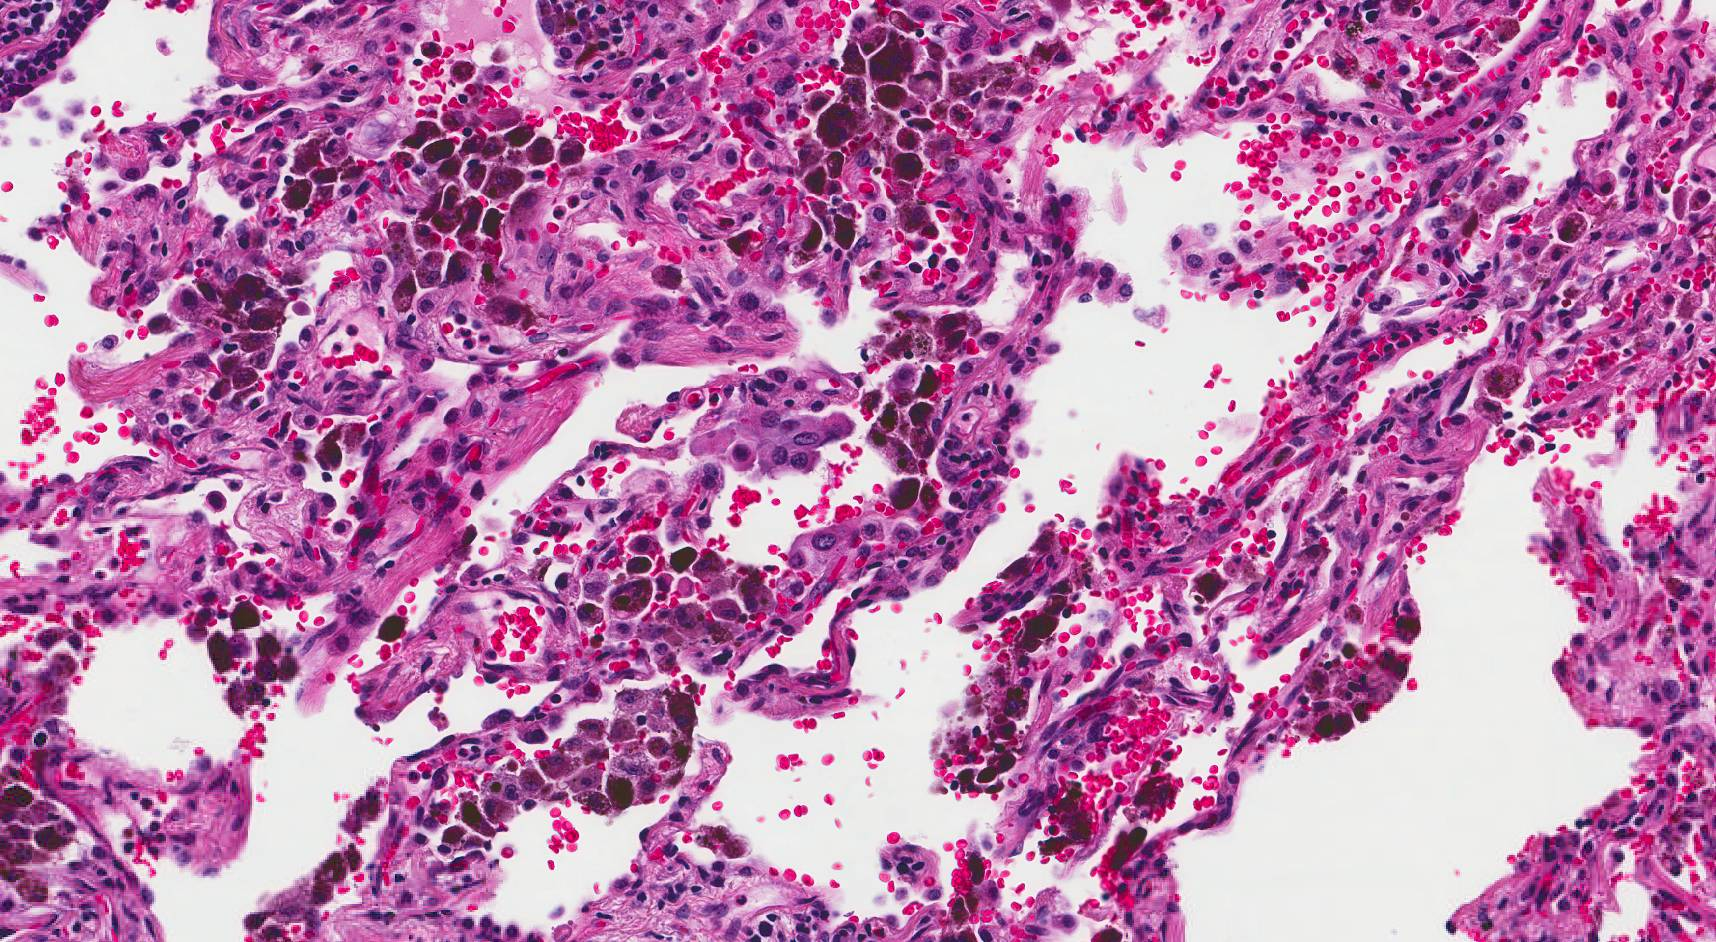stas: (735, 409, 852, 473)
